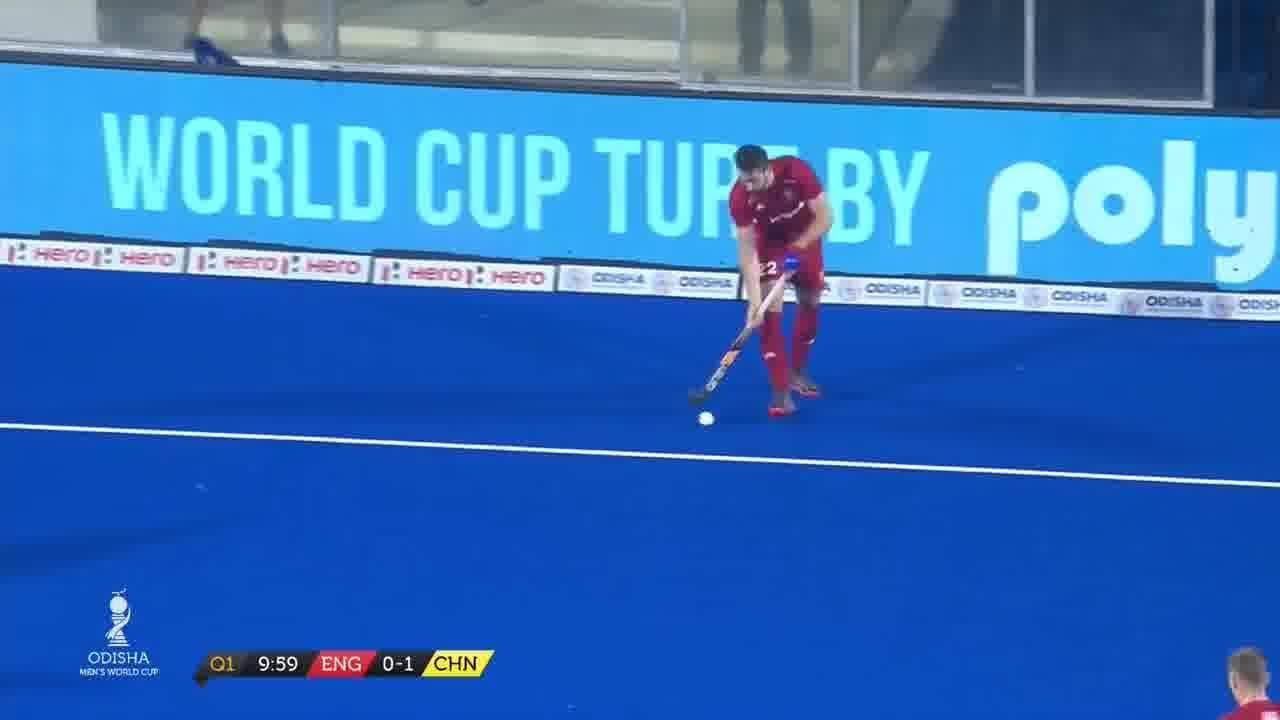ball: (698, 410, 718, 432)
